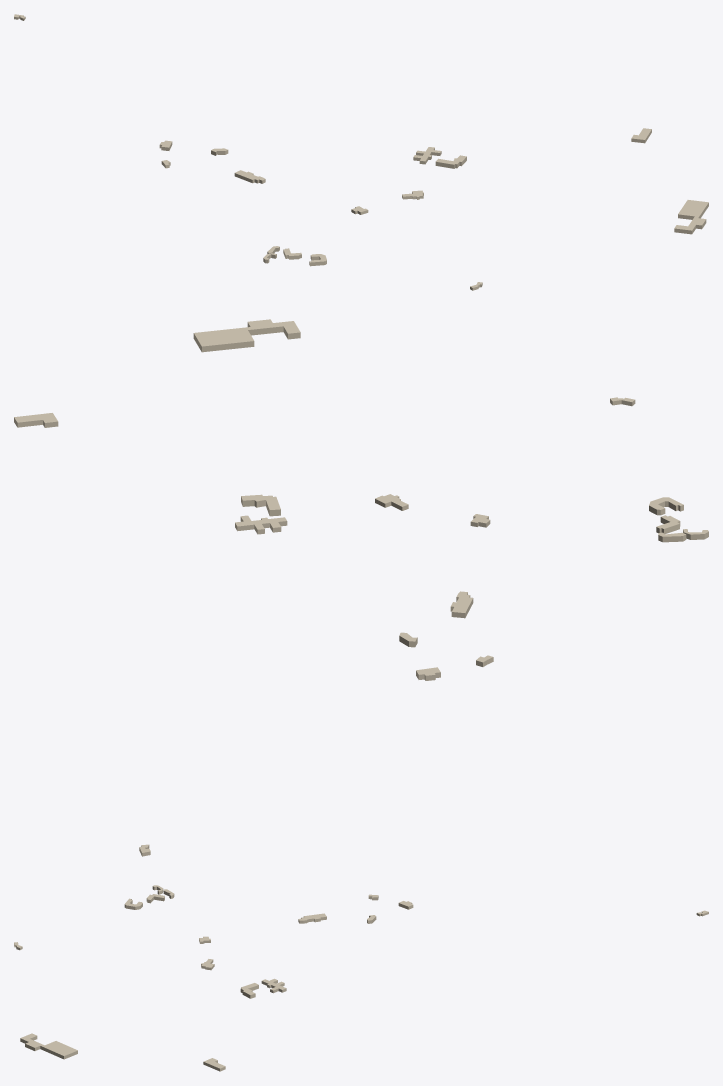
The picture shows the model from 3 angles, top to bottom: view 1: azimuth 30°, elevation 25°; view 2: azimuth 150°, elevation 25°; view 3: azimuth 270°, elevation 25°; orthographic projection. The views are drawn at different scales.
Size of the model in its own units: 1133 by 15.52 by 1816.
